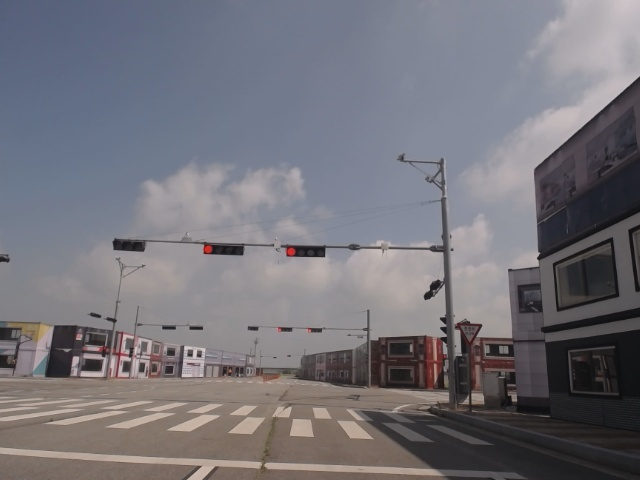red_4: (287, 245, 327, 257), (203, 244, 245, 255)
